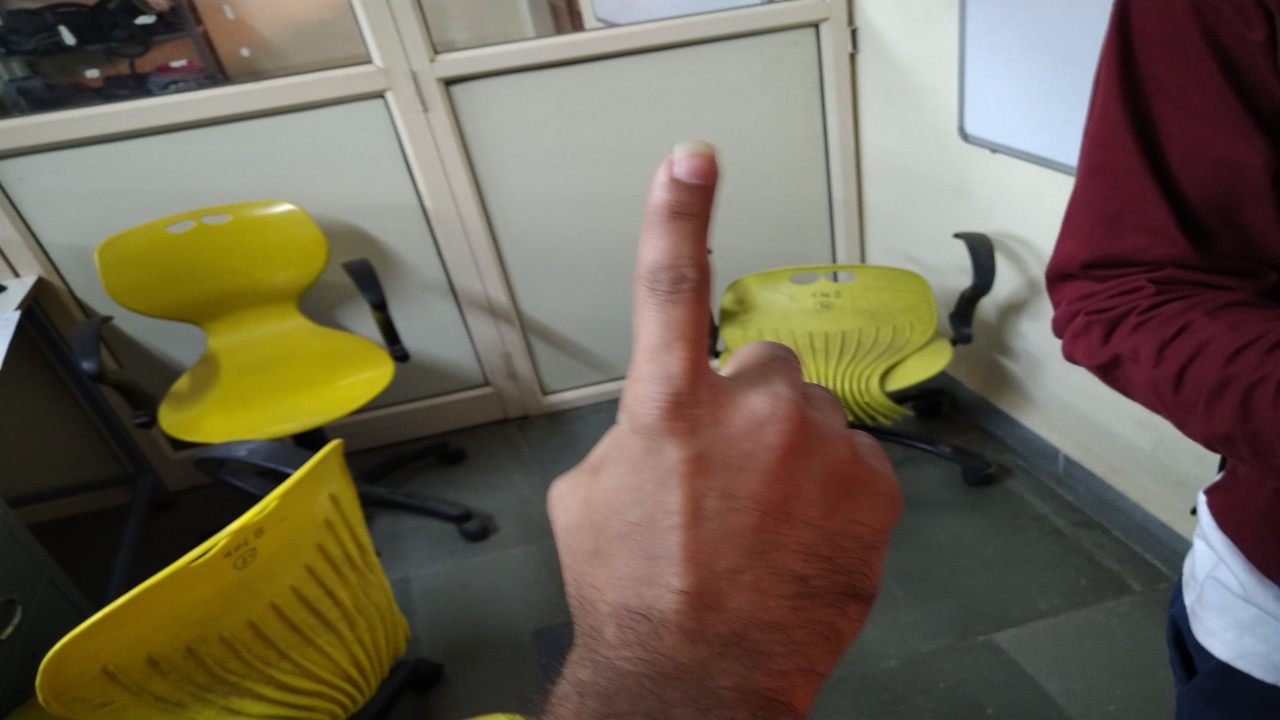fingertip: (648, 134, 724, 204)
